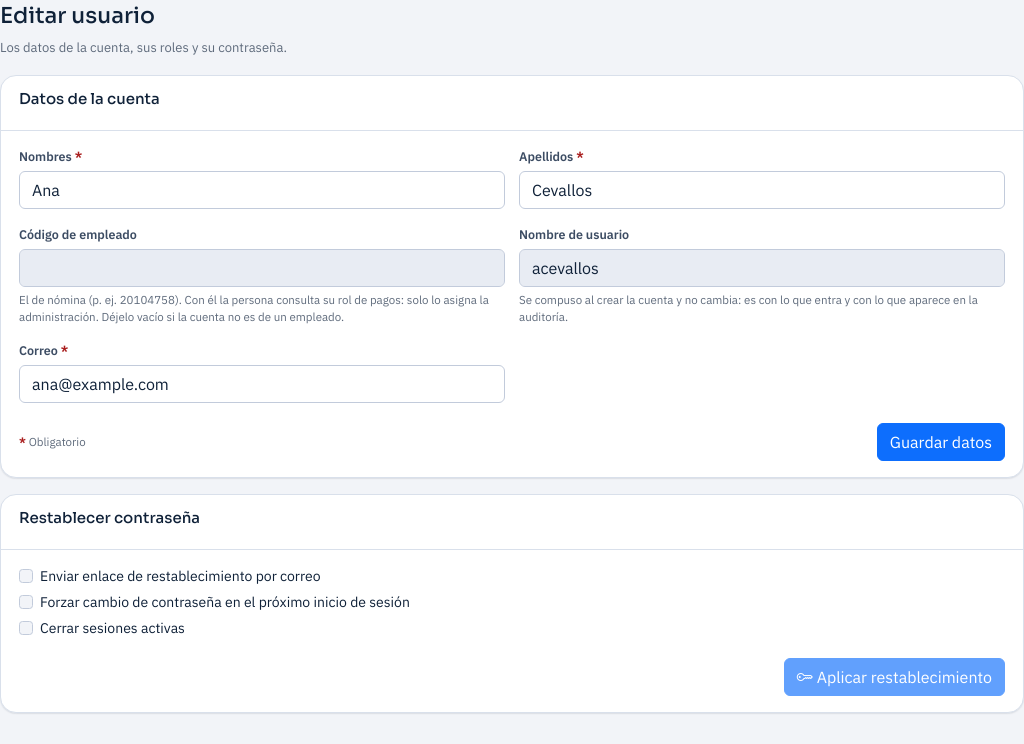
Restablecer la contraseña de otra persona › ejecutada, lo confirma y desmarca las casillas
Expected: the heading "Restablecer contraseña" is shown, [19, 509, 200, 527]
What coordinates should you click on to do the following:
click the checkbox labelled "Cerrar sesiones activas"
I would click on:
 (26, 628)
Its box is [19, 621, 33, 635].
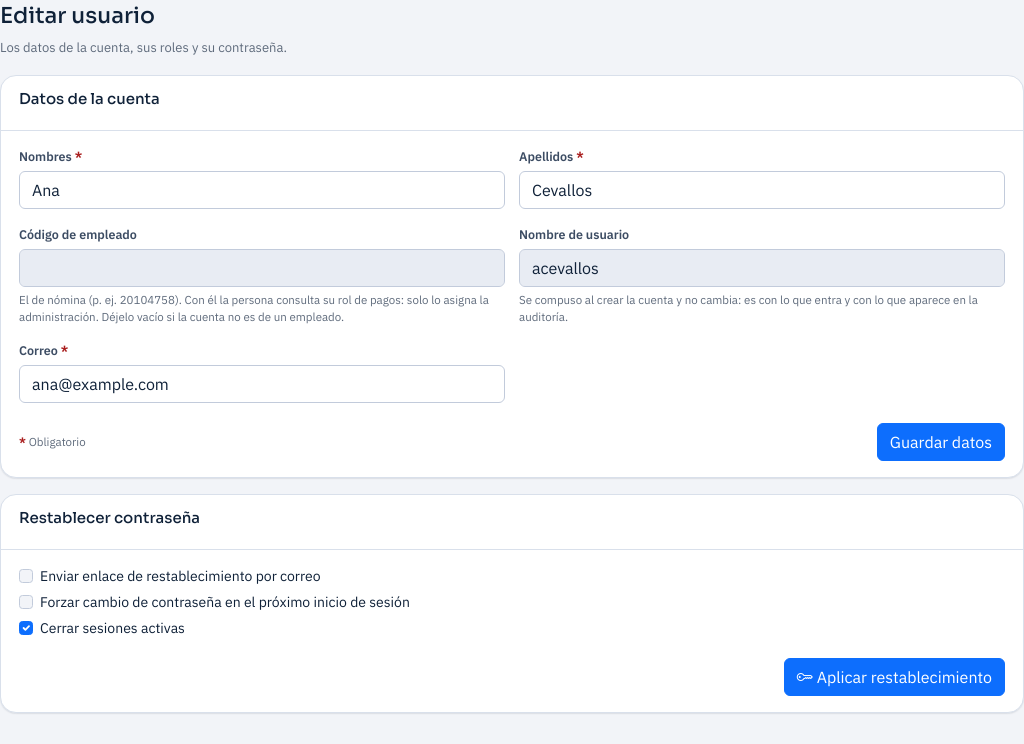
What coordinates should you click on to do the following:
click the button "Aplicar restablecimiento"
I would click on:
 (894, 677)
Its box is [784, 658, 1005, 696].
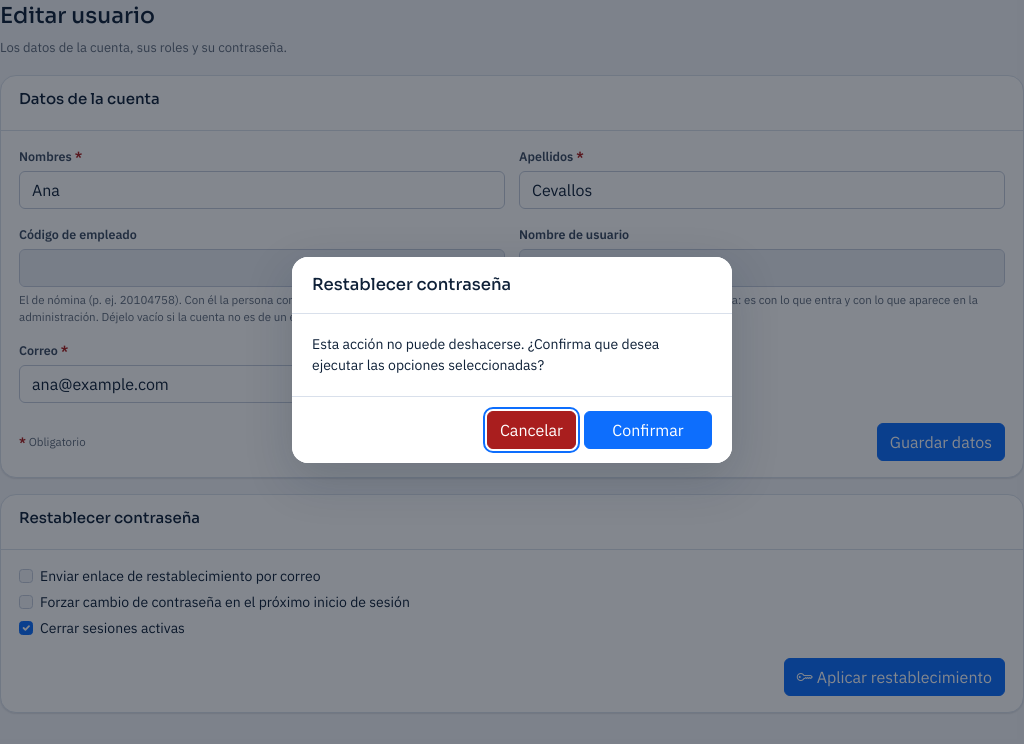
What coordinates should you click on to do the following:
click the button "Confirmar"
I would click on:
 (648, 430)
Its box is [584, 411, 712, 449].
(page scrolled)
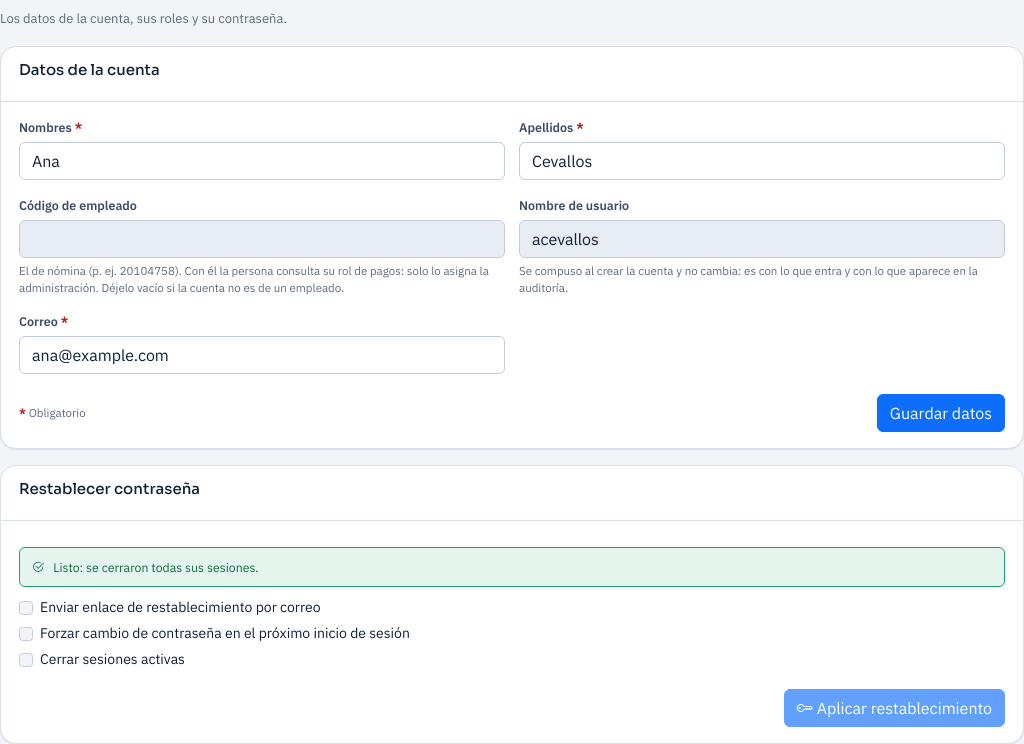
Now the checkbox labelled "Cerrar sesiones activas" is not checked, box [19, 653, 33, 667]
Now the message reads "Listo: se cerraron todas sus sesiones.", box [53, 559, 259, 575]
Now the button "Aplicar restablecimiento" is disabled, box [784, 689, 1005, 727]
